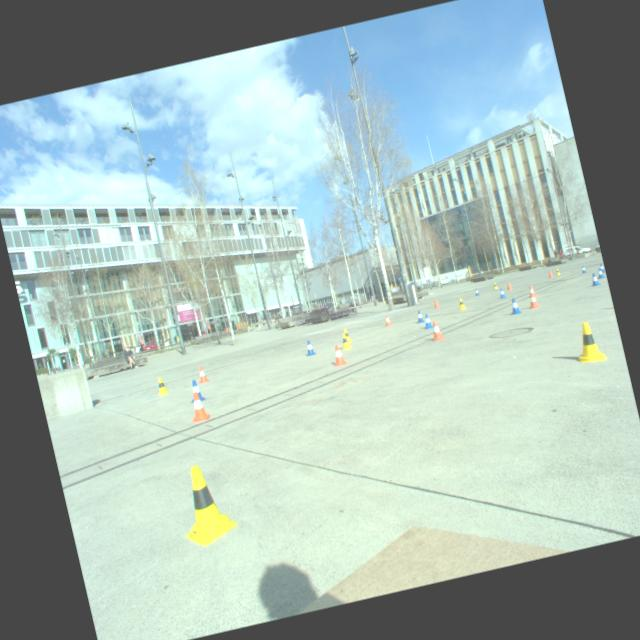blue_cone: (184, 378, 207, 404), (507, 296, 522, 315), (303, 338, 317, 356), (421, 312, 434, 329), (588, 272, 600, 286), (594, 266, 606, 280), (414, 309, 424, 323), (497, 287, 506, 298), (597, 262, 605, 272), (580, 264, 587, 274), (474, 288, 479, 296)
orange_cone: (185, 388, 211, 422), (329, 343, 346, 367), (428, 319, 445, 341), (194, 365, 210, 384), (526, 292, 540, 308), (526, 284, 537, 298), (383, 314, 392, 327), (432, 298, 440, 308), (547, 269, 554, 278), (506, 281, 512, 290)
yellow_cone: (170, 459, 240, 550), (570, 318, 608, 366), (338, 332, 353, 351), (154, 376, 168, 396), (341, 328, 352, 342), (456, 297, 466, 310), (554, 268, 560, 276), (492, 282, 498, 288)
